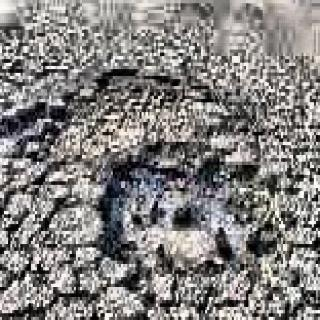alligator-crack: (92, 253, 294, 320), (4, 172, 90, 314)
pothole: (99, 148, 265, 284), (0, 89, 65, 168)
